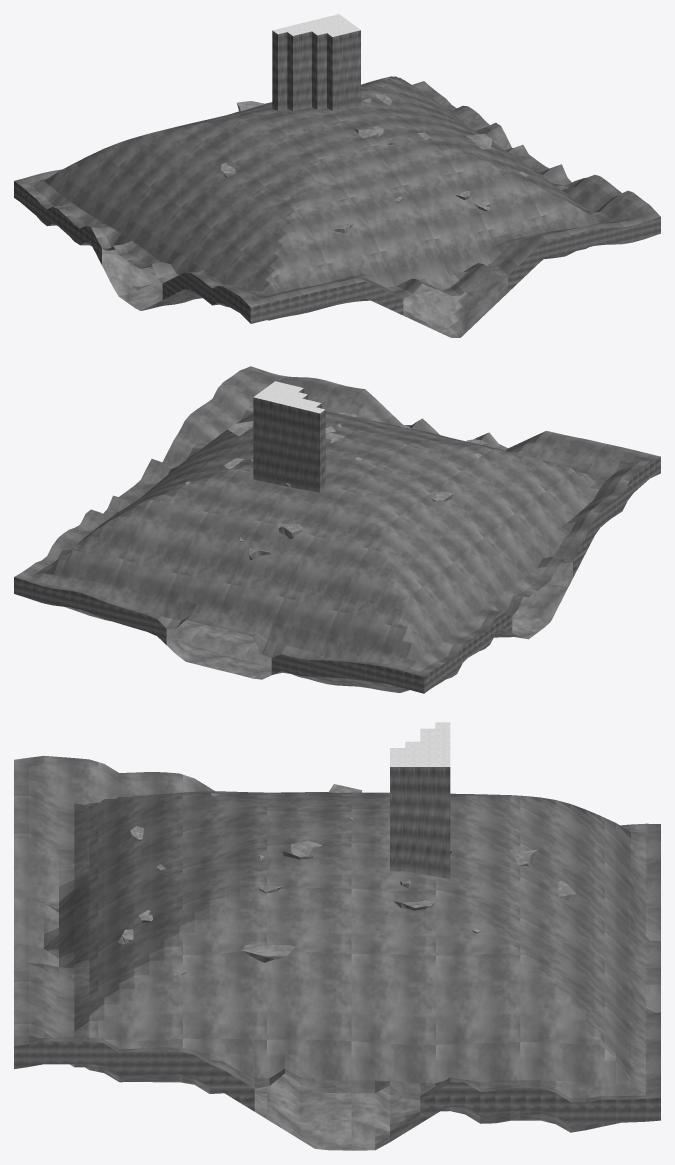
The picture shows the model from 3 angles, top to bottom: view 1: azimuth 30°, elevation 25°; view 2: azimuth 150°, elevation 25°; view 3: azimuth 270°, elevation 25°; orthographic projection. The views are drawn at different scales.
Visible parts, largest first — view 1: CavernVault, CavernWalls, CavernFloor, CavernShaft, CavernStalactites, CavernSkyCap; view 2: CavernVault, CavernWalls, CavernFloor, CavernShaft, CavernSkyCap, CavernStalactites; view 3: CavernVault, CavernWalls, CavernFloor, CavernShaft, CavernStalactites, CavernSkyCap, CavernColumns.
Boxes of the visible parts, x1,y1,x2,y2 form: CavernVault: [14, 76, 660, 306]; CavernWalls: [14, 181, 660, 323]; CavernFloor: [48, 223, 588, 337]; CavernShaft: [272, 30, 360, 110]; CavernStalactites: [221, 85, 528, 232]; CavernSkyCap: [273, 14, 360, 36]; CavernVault: [14, 366, 660, 676]; CavernWalls: [14, 457, 660, 693]; CavernFloor: [65, 562, 572, 692]; CavernShaft: [253, 388, 325, 492]; CavernSkyCap: [253, 381, 324, 413]; CavernStalactites: [185, 412, 487, 559]; CavernVault: [14, 755, 660, 1102]; CavernWalls: [14, 1040, 660, 1125]; CavernFloor: [70, 1063, 620, 1150]; CavernShaft: [390, 767, 450, 878]; CavernStalactites: [118, 784, 575, 977]; CavernSkyCap: [390, 722, 450, 766]; CavernColumns: [282, 840, 537, 866].
Bounding box in the file's own units: 92 × 48.01 × 92.
Materials: 6 (6 with a texture image).
